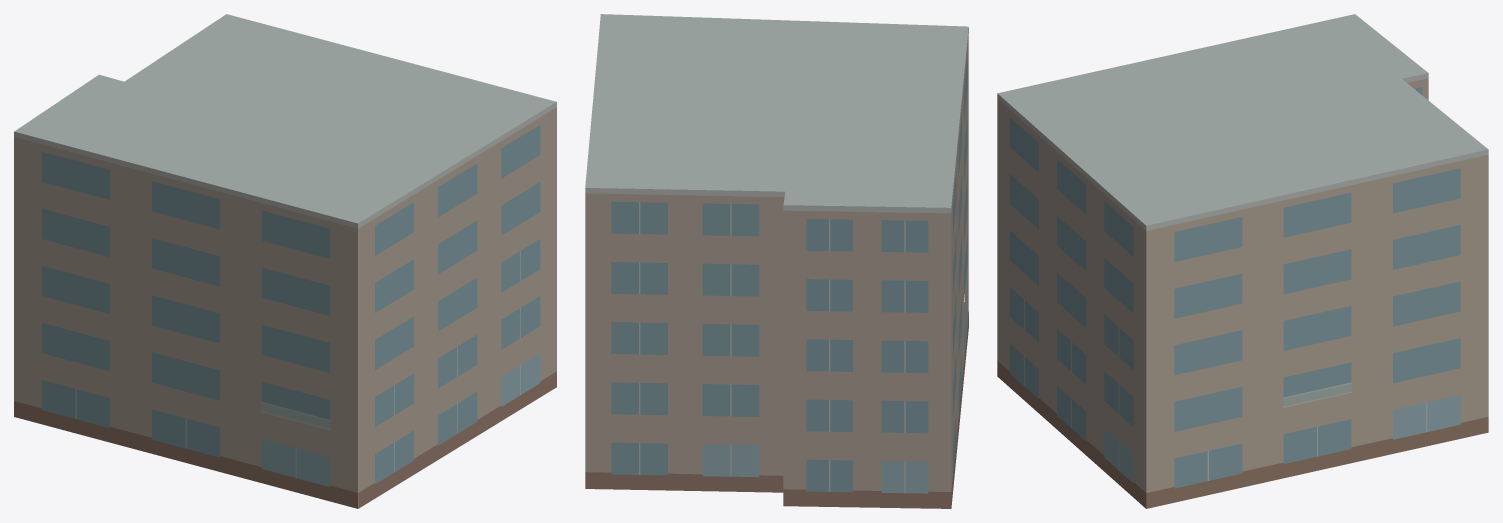
The model's file is survey-upis-32840696.glb.
3 renders of one model, left to right at view 1: azimuth 30°, elevation 25°; view 2: azimuth 150°, elevation 25°; view 3: azimuth 270°, elevation 25°, orthographic. The views are drawn at different scales.
Visible parts, largest first — view 1: survey-upis-32840696.tmp; view 2: survey-upis-32840696.tmp; view 3: survey-upis-32840696.tmp.
Boxes of the visible parts, x1,y1,x2,y2 form: survey-upis-32840696.tmp: (14, 14, 556, 508); survey-upis-32840696.tmp: (585, 14, 968, 508); survey-upis-32840696.tmp: (997, 14, 1488, 508).
Size of the model in its own units: 21.35 by 13.3 by 20.93.
